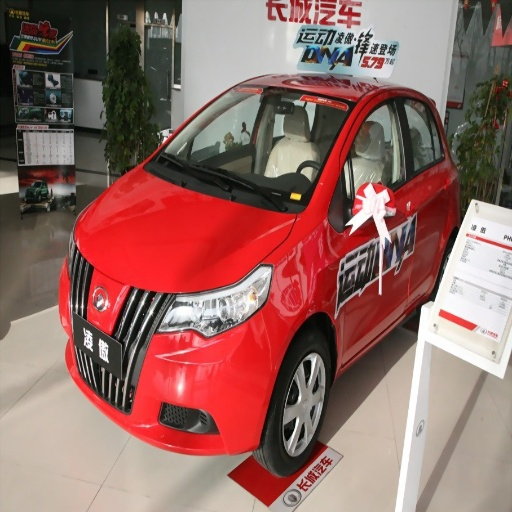back_left_door: (398, 93, 454, 295)
front_bumper: (74, 266, 292, 455)
front_glass: (147, 84, 354, 211)
front_left_door: (333, 93, 420, 357)
